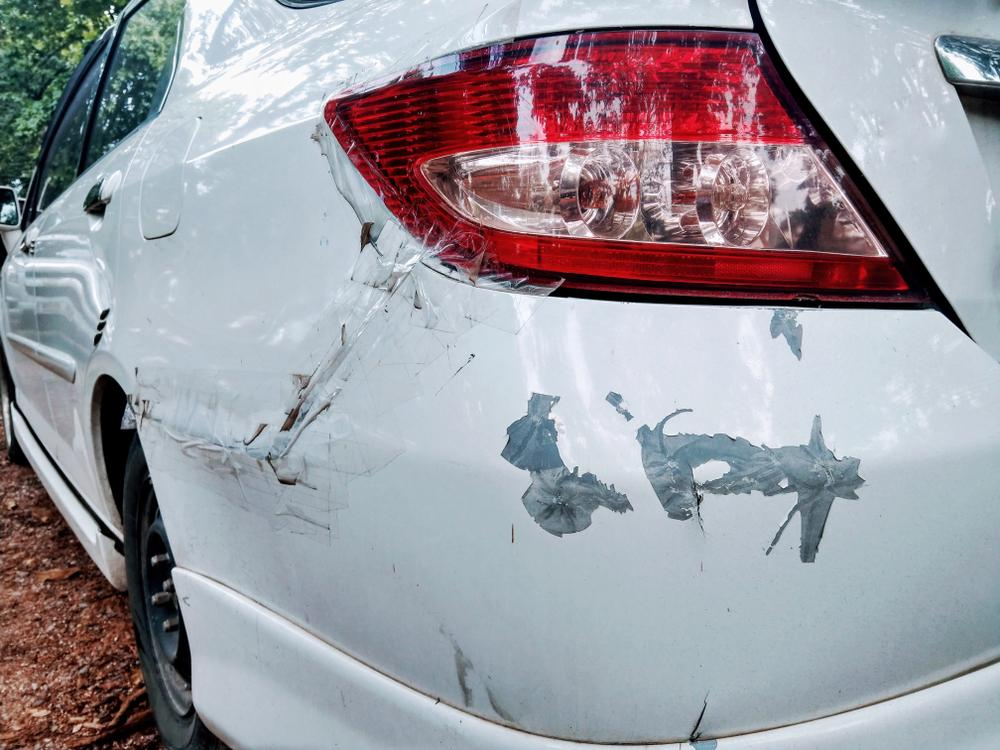crack: (690, 691, 708, 740)
scratch: (499, 306, 871, 564)
